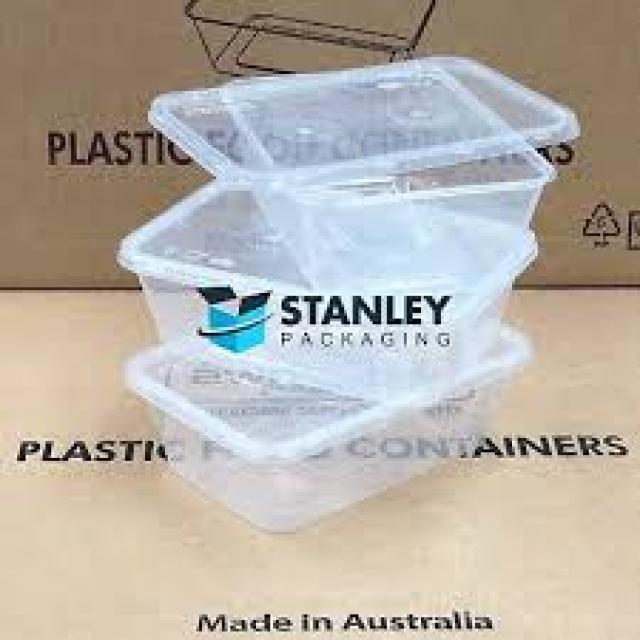disposable: (115, 179, 557, 409), (214, 70, 573, 313), (126, 311, 523, 528)
